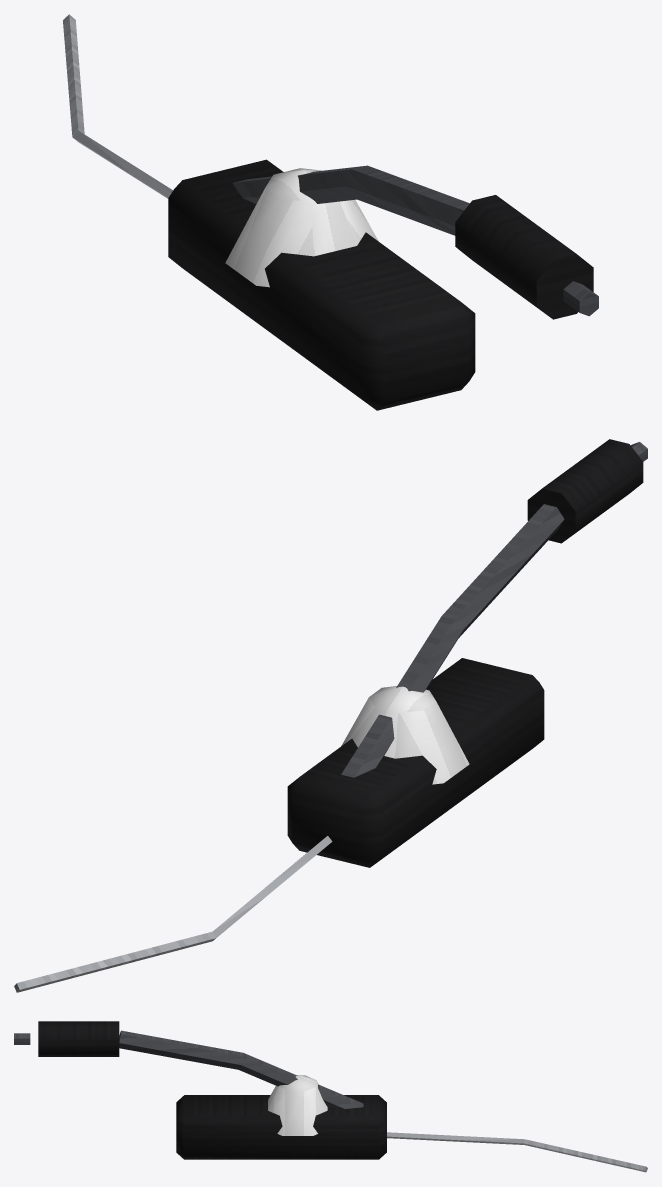
The model's file is freio_mao_fabrica.glb.
3 renders of one model, top to bottom at view 1: azimuth 30°, elevation 25°; view 2: azimuth 150°, elevation 25°; view 3: azimuth 270°, elevation 25°, orthographic. The views are drawn at different scales.
Visible parts, largest first — view 1: freio_mao_fabrica; view 2: freio_mao_fabrica; view 3: freio_mao_fabrica.
Part boxes in pixels (x1,y1,x2,y2): freio_mao_fabrica: (63, 14, 598, 410); freio_mao_fabrica: (14, 439, 647, 992); freio_mao_fabrica: (14, 1021, 647, 1172).
Size of the model in its own units: 0.1297 by 0.1703 by 0.7819.
Materials: 2 (2 with a texture image).
